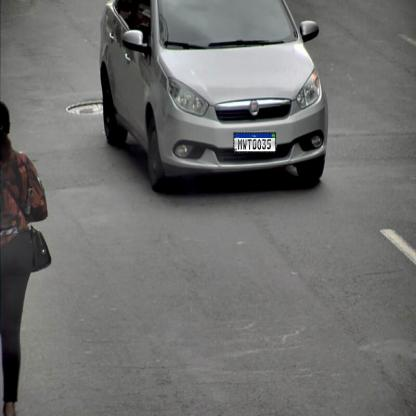PlacaM: (234, 132, 276, 152)
